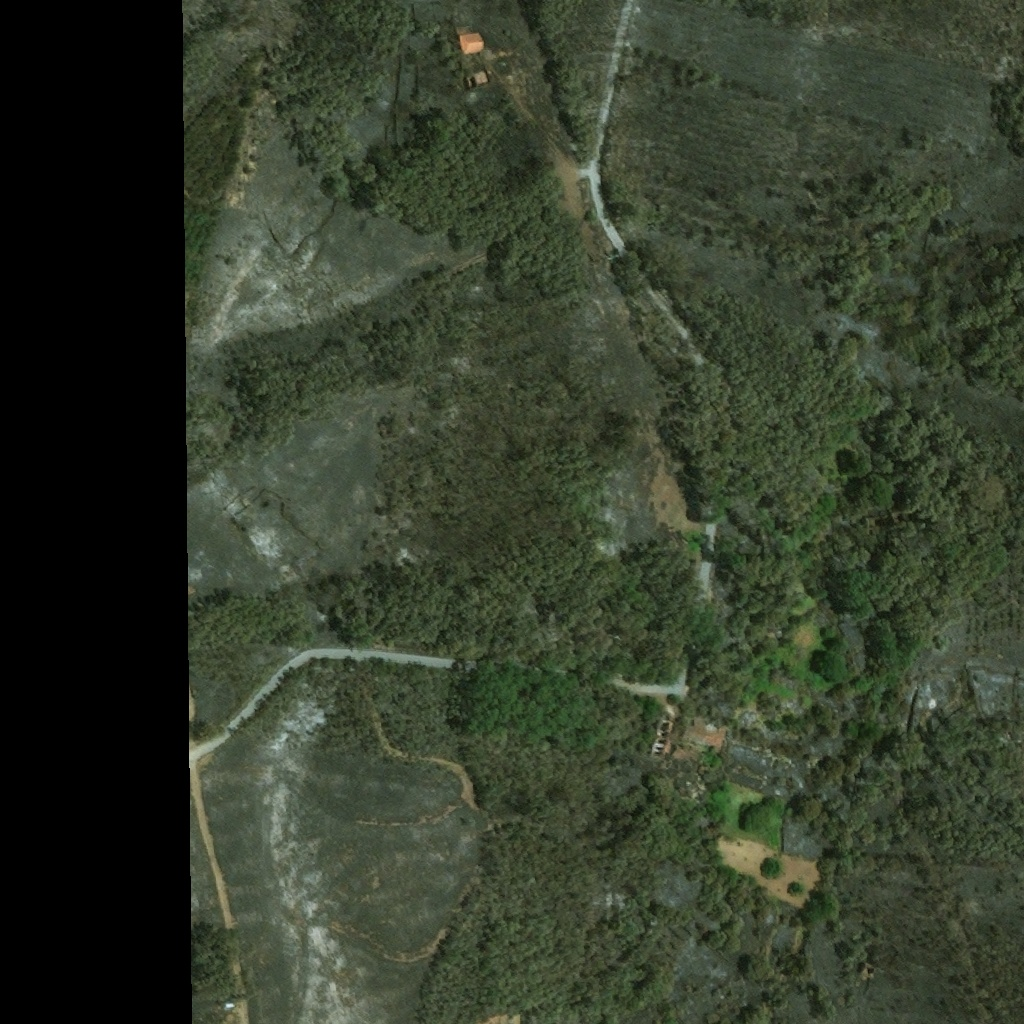0 no-damage: (680, 719, 727, 749), (458, 33, 484, 54)
1 minor-damage: (671, 747, 700, 764)
3 destroyed: (650, 717, 675, 757), (464, 70, 491, 90), (860, 963, 875, 979)
4 un-classified: (225, 1003, 235, 1008)
